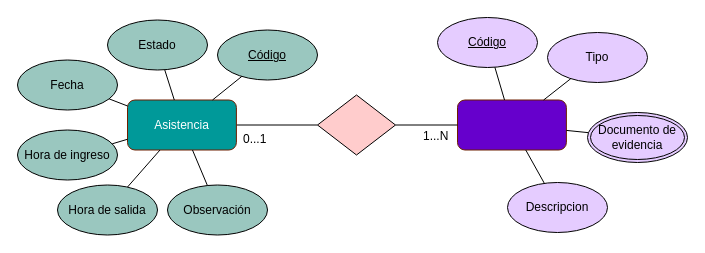
The diagram is 705 pixels wide and 253 high, and some of its shapes have lost their labels. The box of each missing label's shape, as (x1, y1, x2, y2) in pixels:
Justificante: (456, 99, 566, 150)
se excusa: (316, 94, 396, 155)
